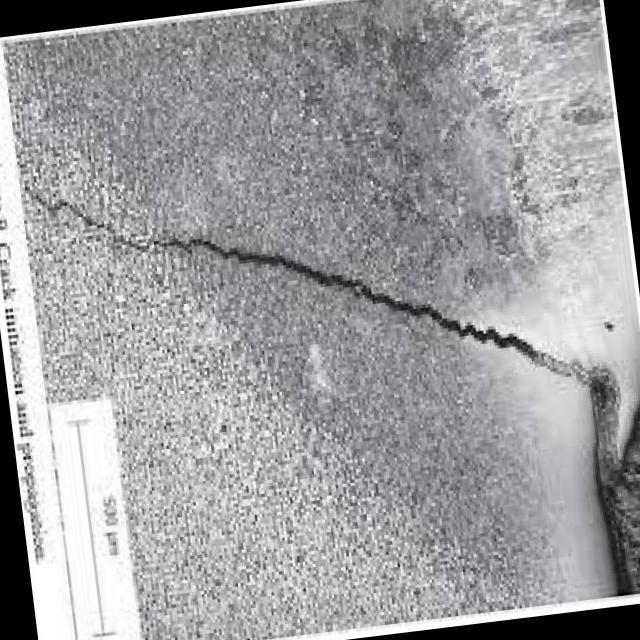defect: (26, 180, 606, 401)
